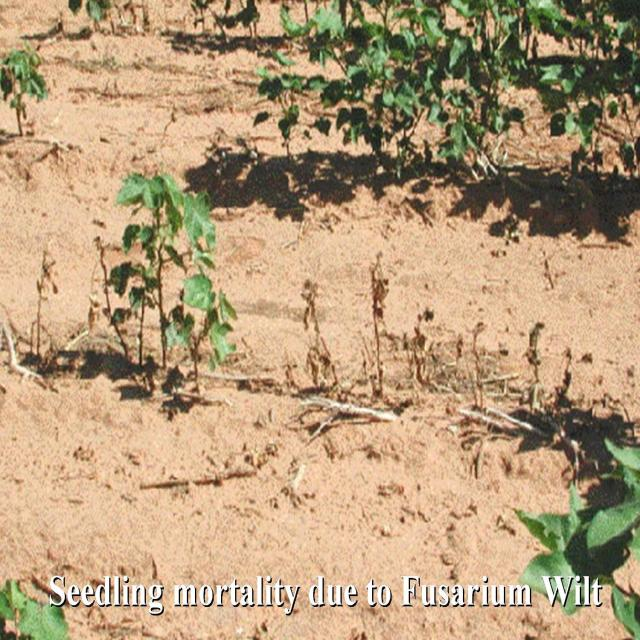Fusarium Wilt: (23, 163, 570, 432)
